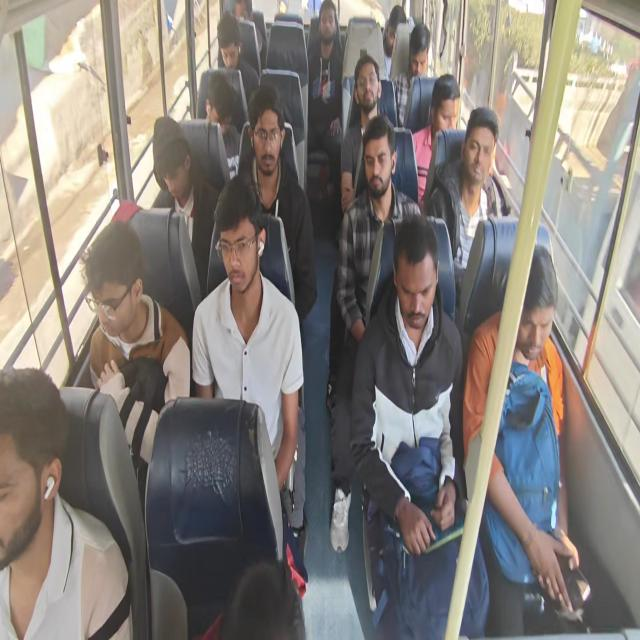person: (2, 356, 69, 583), (76, 221, 151, 334), (505, 226, 561, 362), (212, 174, 262, 298), (391, 216, 438, 344), (249, 77, 294, 179), (149, 110, 197, 202), (358, 118, 402, 211), (461, 108, 498, 182), (196, 70, 236, 134), (212, 6, 250, 71), (430, 66, 460, 137), (350, 49, 384, 107), (381, 6, 408, 59), (408, 18, 431, 77), (229, 0, 259, 38), (316, 3, 342, 42)
